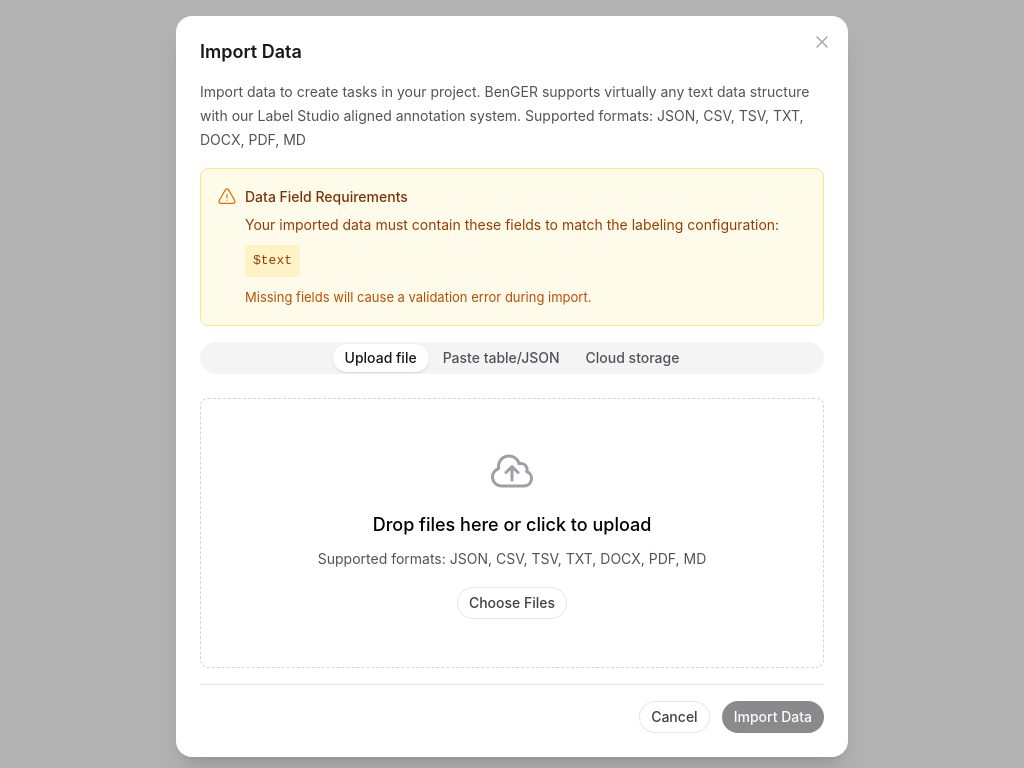
Test: ImportDataModal › Tab Navigation › switches to paste tab when clicked
Click the button "Paste table/JSON": (501, 358) [431,344,572,372]
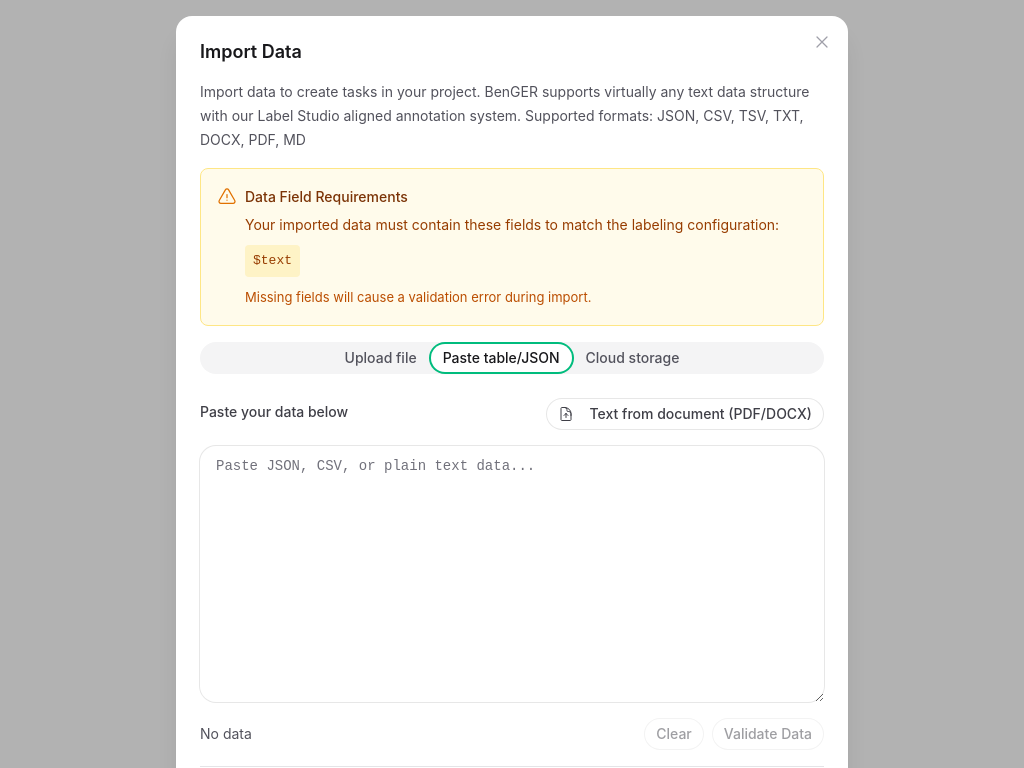
Expected: the text box with placeholder "Paste JSON, CSV, or plain text data..." is shown, [200,446,824,702]
